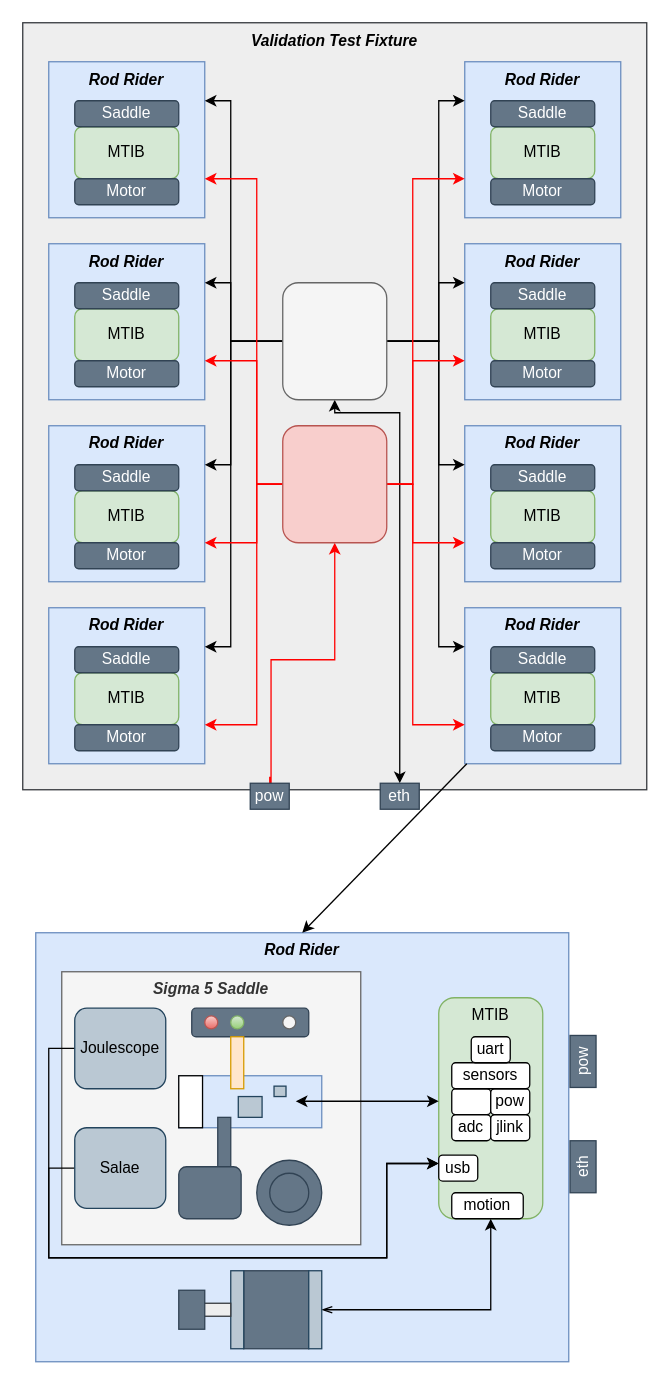
The diagram is 670 pixels wide and 1385 high, and some of its shapes have lost their labels. The shapes that lost their labels are listed below. From the top down, each one's centre as x and y in pixels, then its label:
At point 334,340: "Managed Switch".
At point 334,483: "12V Power Supply".
At point 249,1022: "SOS".
At point 470,1101: "gpio".
